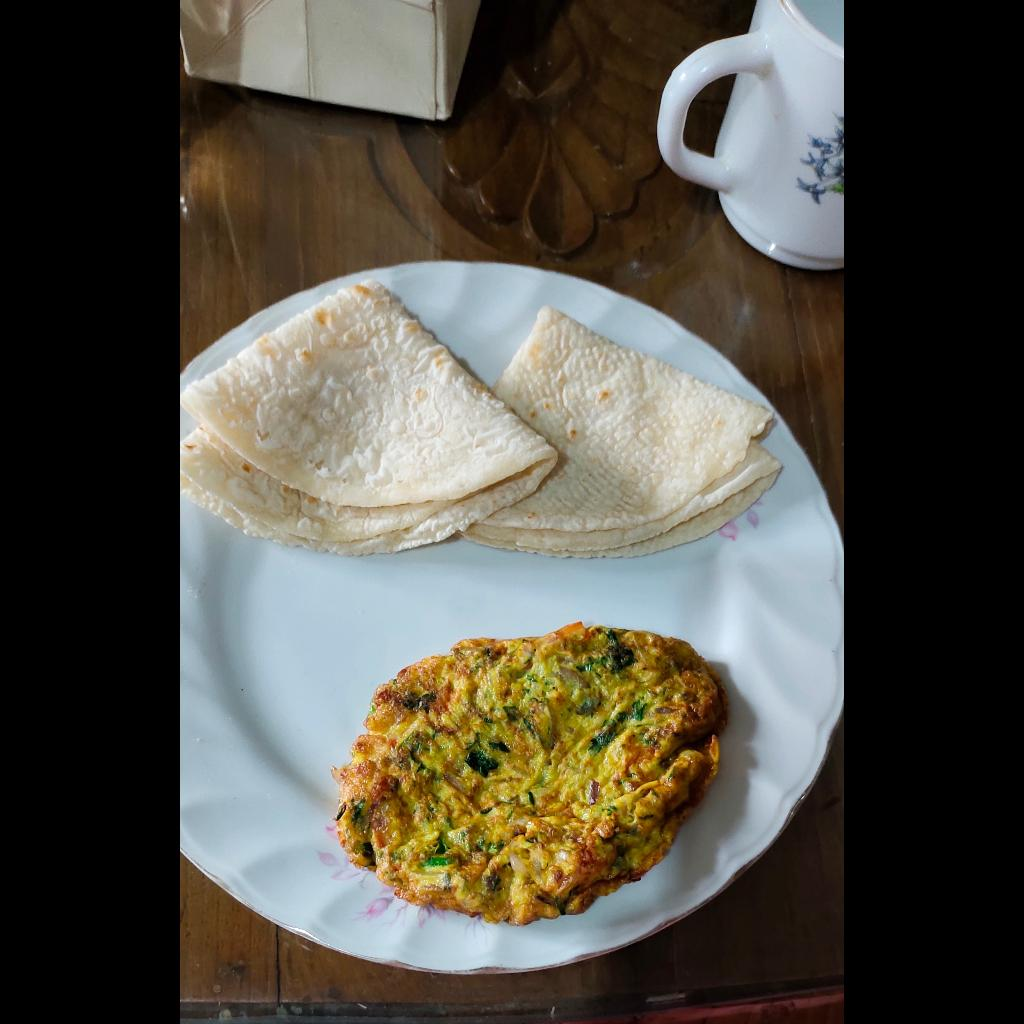egg-poached: (329, 622, 729, 928)
ruti: (180, 280, 782, 561)
